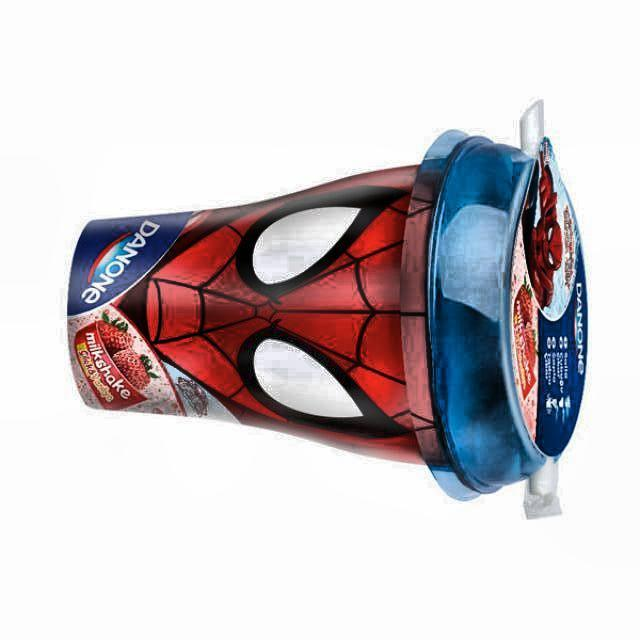plastic: (68, 131, 588, 499)
